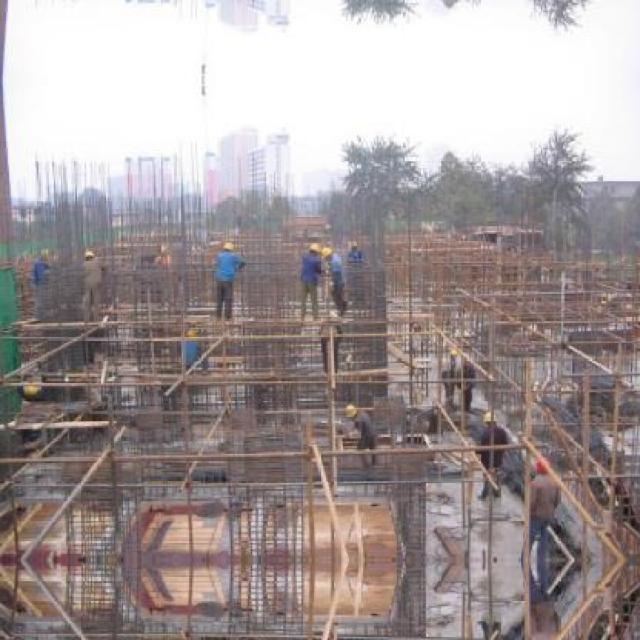hat: (340, 402, 362, 427), (532, 459, 557, 479), (179, 323, 199, 343), (217, 236, 238, 253), (80, 246, 98, 261), (308, 243, 322, 255), (322, 243, 331, 260)
